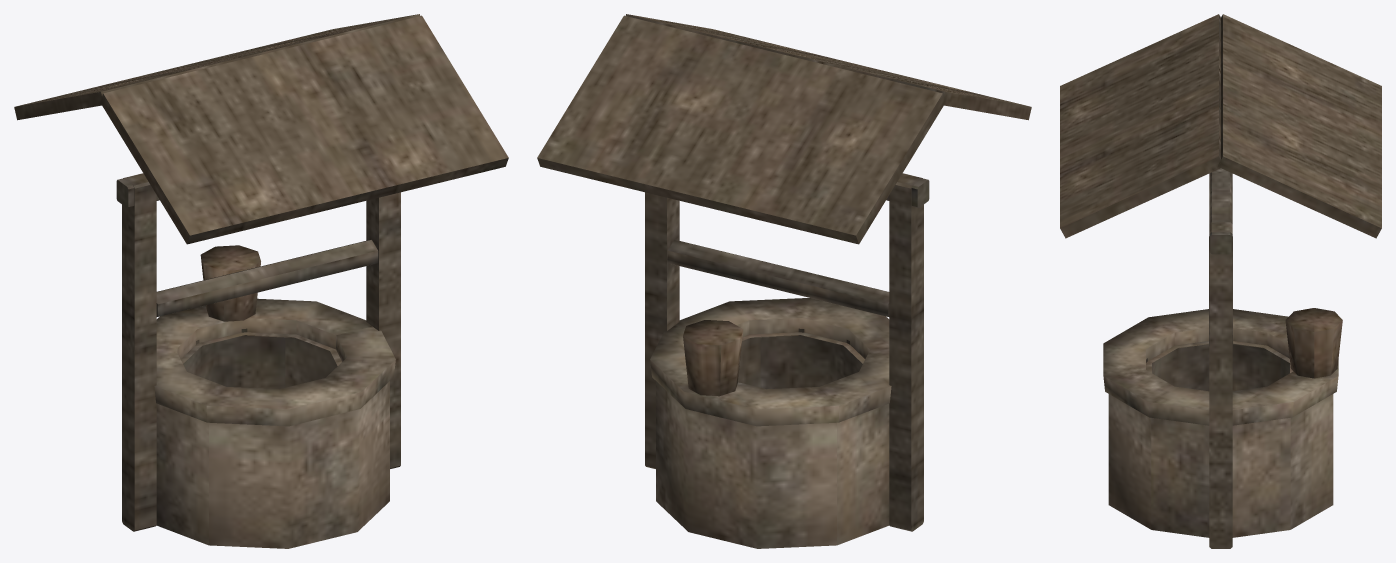
File: b_well_far.glb
3 renders of one model, left to right at view 1: azimuth 30°, elevation 25°; view 2: azimuth 150°, elevation 25°; view 3: azimuth 270°, elevation 25°, orthographic. The views are drawn at different scales.
Visible parts, largest first — view 1: b_well_far; view 2: b_well_far; view 3: b_well_far.
Boxes of the visible parts, x1,y1,x2,y2 form: b_well_far: (14,14,508,548); b_well_far: (537,14,1031,548); b_well_far: (1060,14,1381,548).
Size of the model in its own units: 1.88 by 2.49 by 1.8.
1 material, 1 textured.
